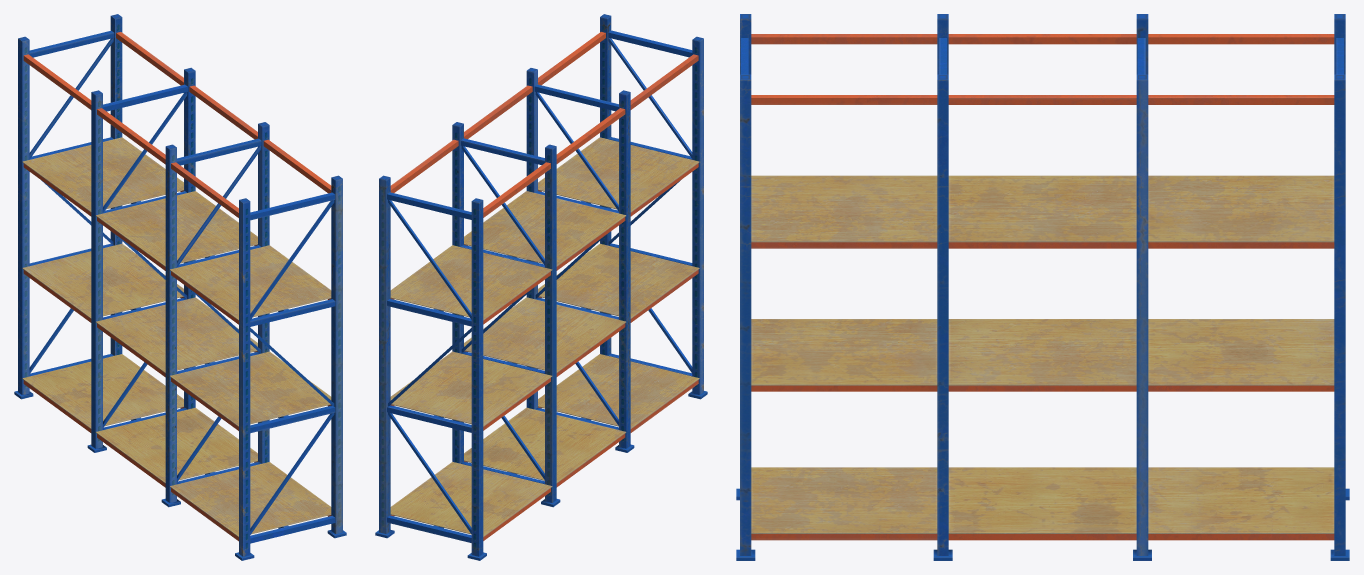
3 renders of one model, left to right at view 1: azimuth 30°, elevation 25°; view 2: azimuth 150°, elevation 25°; view 3: azimuth 270°, elevation 25°, orthographic. The views are drawn at different scales.
Visible parts, largest first — view 1: Storage_Rack_Solid Glass_0; view 2: Storage_Rack_Solid Glass_0; view 3: Storage_Rack_Solid Glass_0.
Boxes of the visible parts, box(x1,y1,x2,y2) form: Storage_Rack_Solid Glass_0: box(14, 14, 346, 560); Storage_Rack_Solid Glass_0: box(375, 14, 707, 560); Storage_Rack_Solid Glass_0: box(736, 14, 1349, 560).
Size of the model in its own units: 3.18 by 10.33 by 11.97.
1 material, 1 textured.
